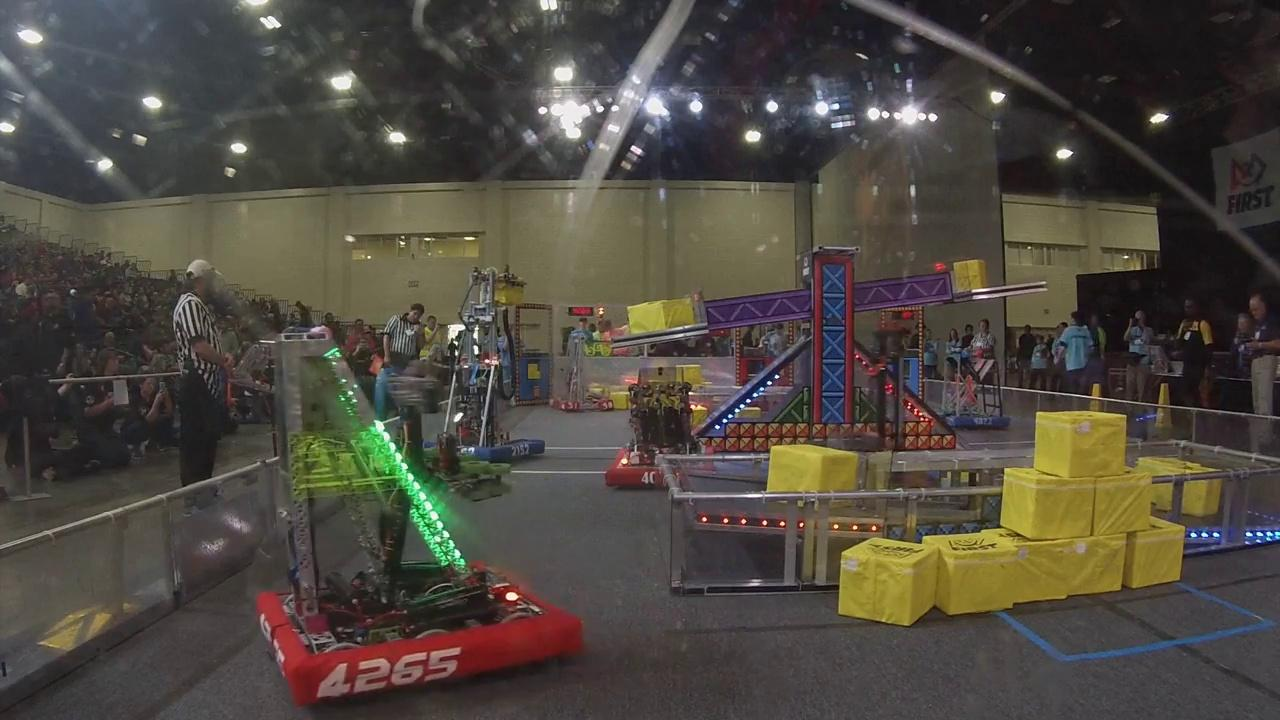robot: (254, 319, 589, 714), (433, 263, 552, 470), (604, 362, 719, 492), (934, 343, 1011, 437)
